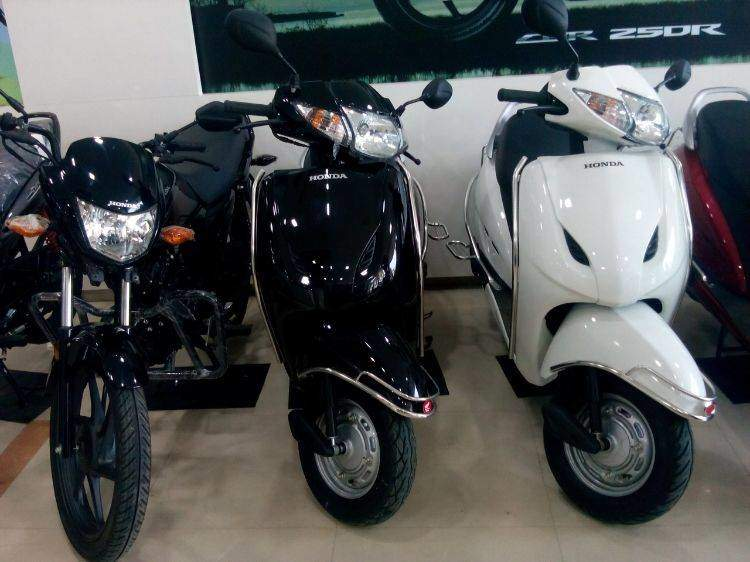Bike: (465, 62, 728, 528), (224, 79, 456, 516), (23, 121, 249, 537)
